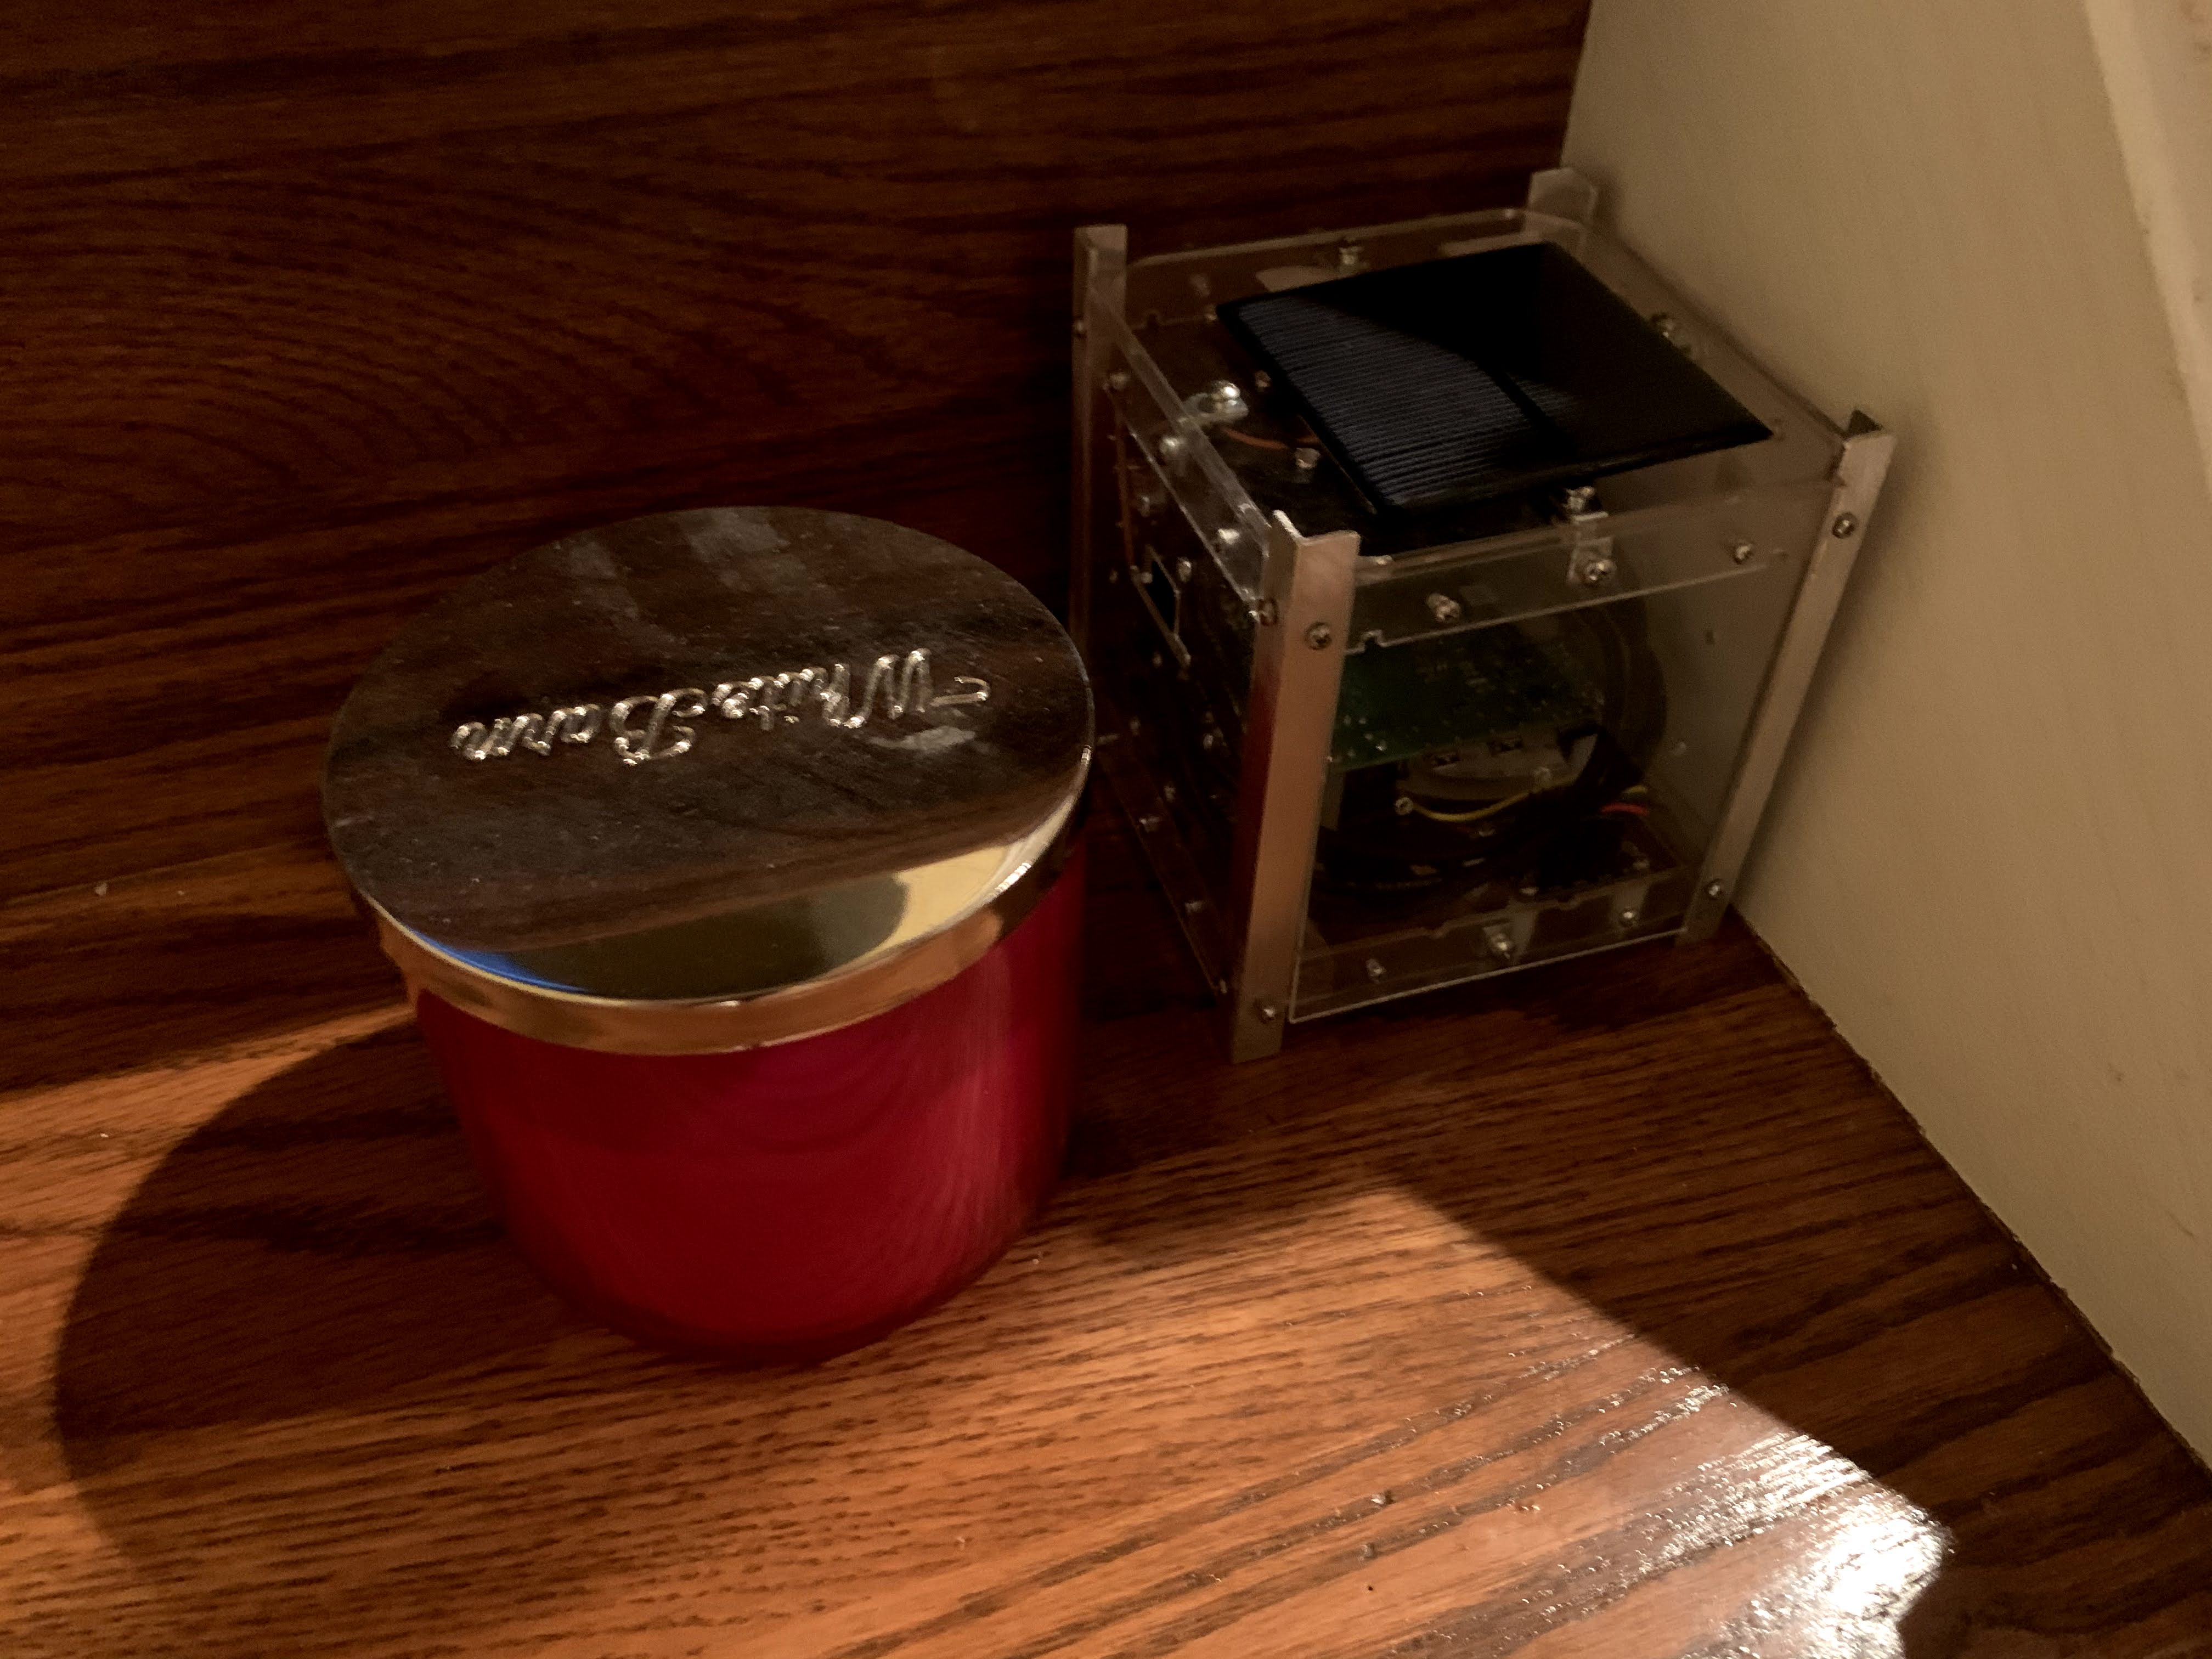Space-debris-cubesat: (1055, 176, 1923, 1073)
